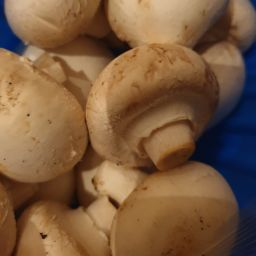Mushrooms: (13, 20, 219, 210), (70, 34, 226, 178), (1, 43, 107, 214), (102, 143, 249, 256), (1, 174, 119, 256), (104, 1, 236, 56), (6, 1, 109, 63)
